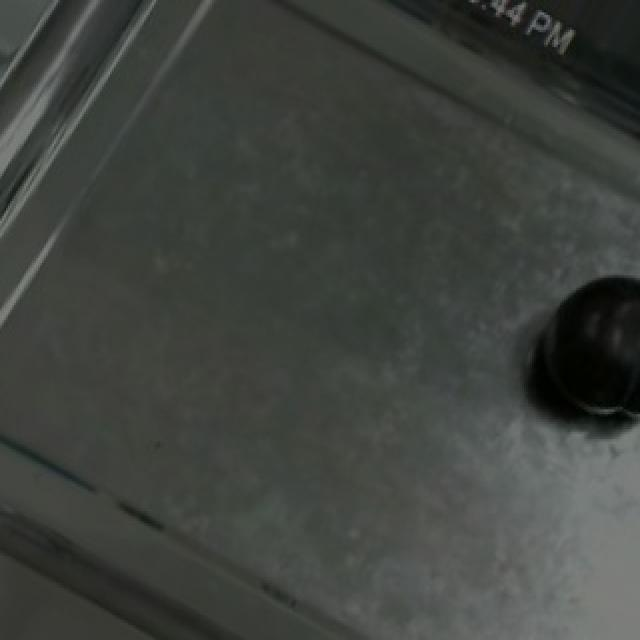Fruit: (524, 258, 640, 432)
